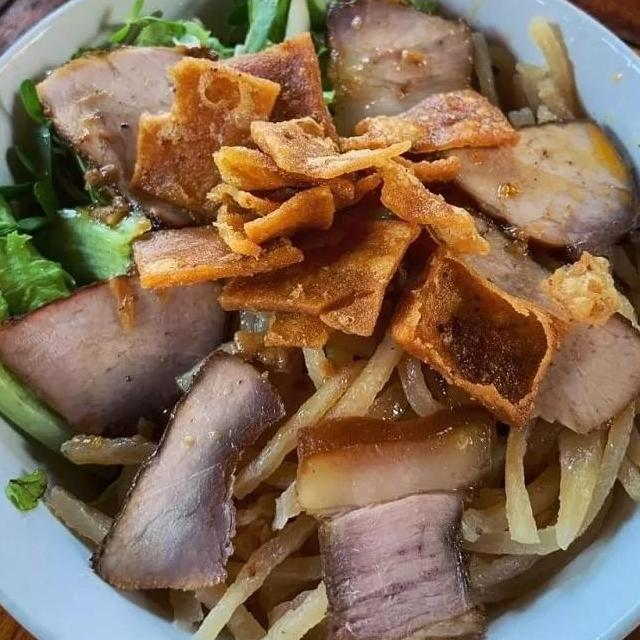banh da: (382, 236, 574, 432), (200, 108, 418, 262), (216, 208, 427, 359), (128, 50, 286, 226), (206, 28, 352, 184), (125, 210, 312, 294), (347, 82, 522, 166)
mi: (222, 304, 456, 506), (443, 395, 640, 602), (158, 480, 342, 640)
mi quang: (0, 0, 640, 640)
thit heo: (84, 347, 322, 596), (286, 398, 509, 640), (433, 197, 640, 442), (0, 258, 237, 439), (25, 39, 246, 228), (422, 108, 640, 273), (313, 0, 477, 155)
